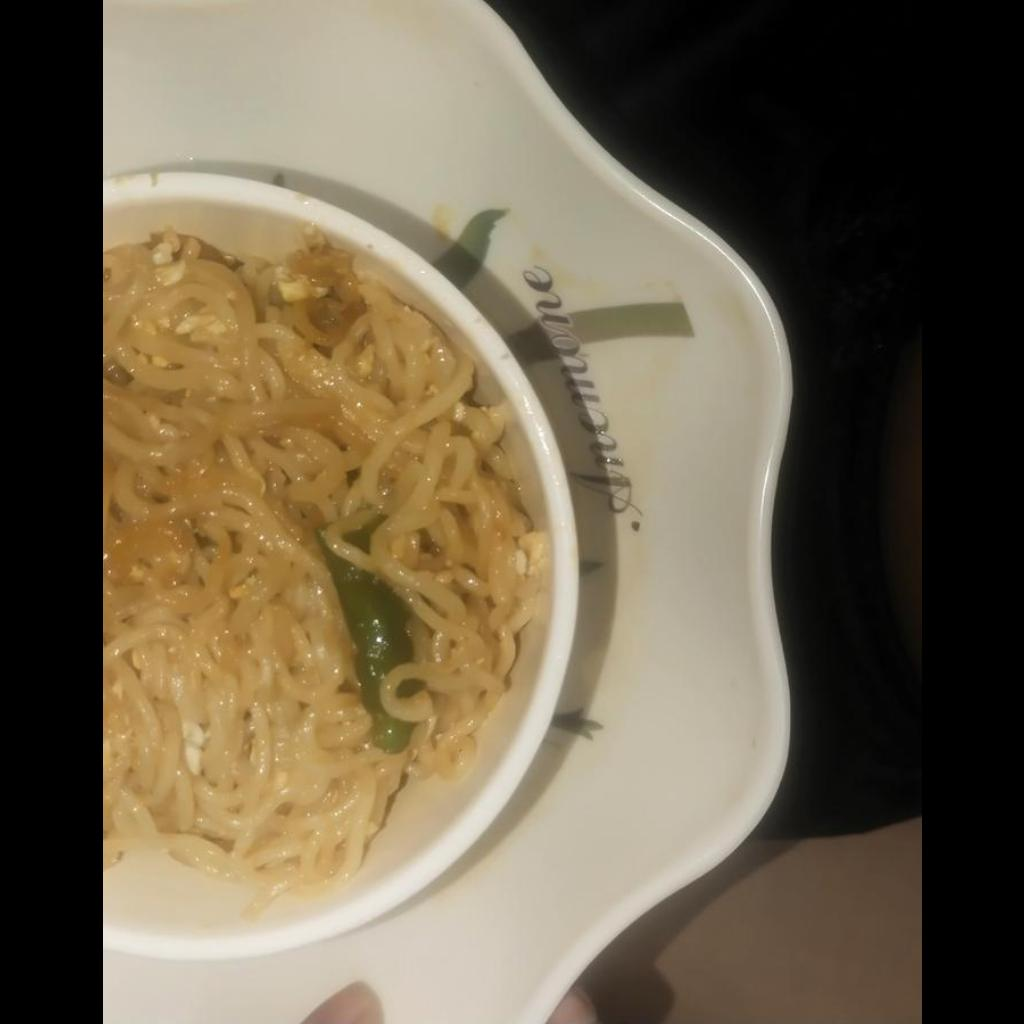noodles: (102, 235, 541, 915)
